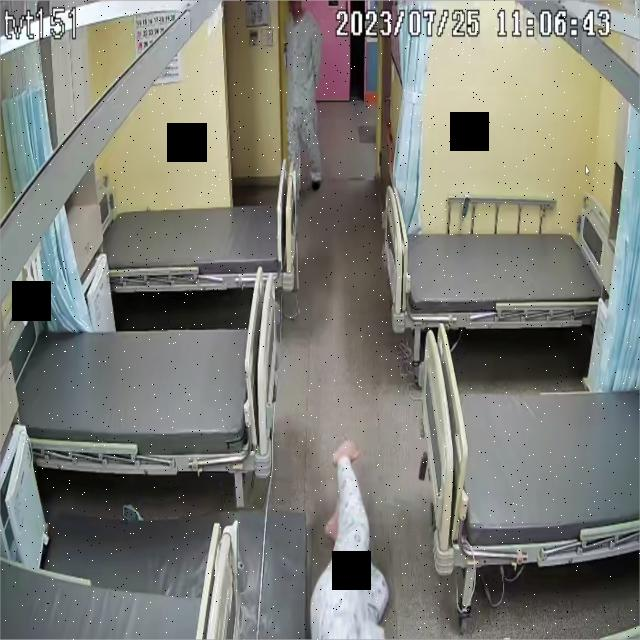bed: (420, 324, 640, 569), (14, 318, 278, 470), (382, 213, 616, 332), (105, 192, 294, 290)
fall: (314, 444, 390, 640)
move: (281, 0, 323, 193)
patient: (314, 444, 393, 640), (280, 1, 324, 192)
